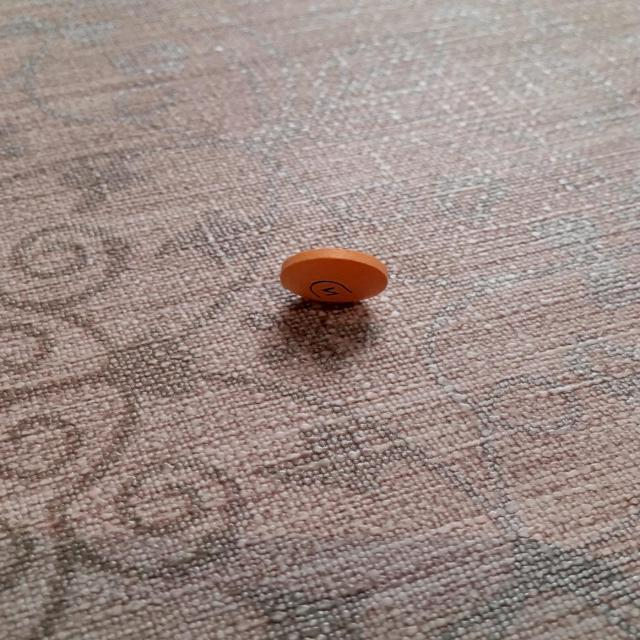pill: (281, 242, 394, 308)
